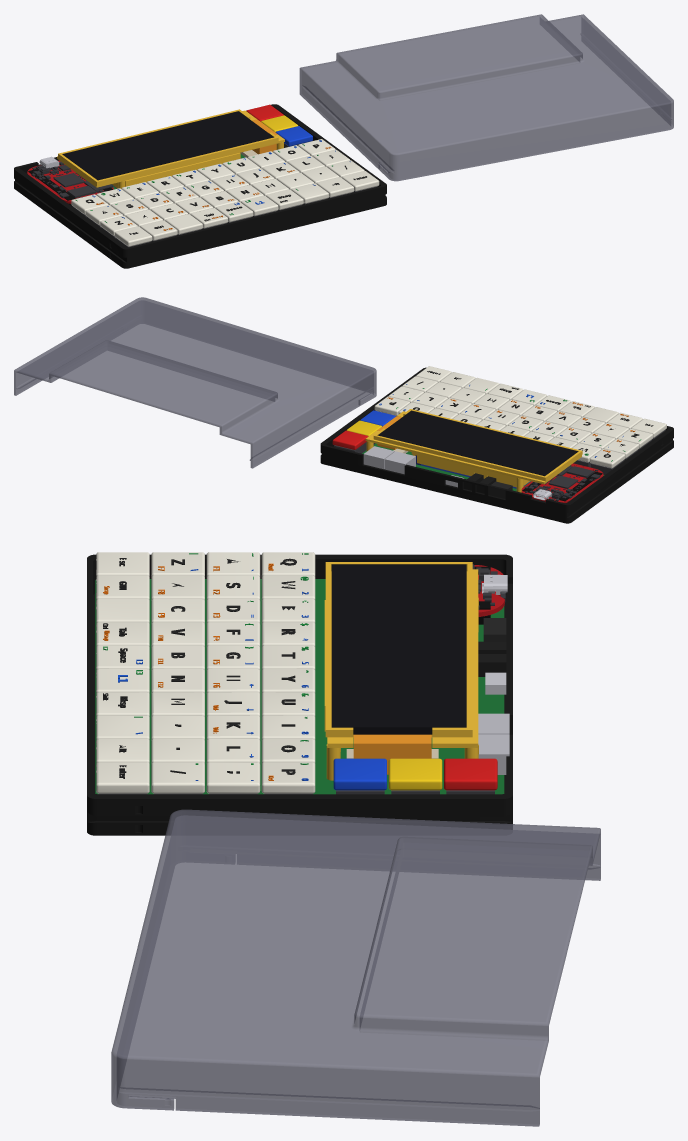
Rendered from beside_midnight.glb.
3 views of the same model, one above another, from view 1: azimuth 30°, elevation 25°; view 2: azimuth 150°, elevation 25°; view 3: azimuth 270°, elevation 25° (orthographic). The views are drawn at different scales.
Visible parts, largest first — view 1: Lid, Internals, Tray; view 2: Lid, Internals, Tray; view 3: Lid, Internals, Tray.
Part boxes in pixels (x1,y1,x2,y2): Lid: [299, 14, 673, 181]; Internals: [27, 104, 379, 247]; Tray: [14, 104, 386, 268]; Lid: [14, 297, 376, 468]; Internals: [332, 366, 666, 502]; Tray: [320, 367, 673, 523]; Lid: [111, 809, 600, 1126]; Internals: [95, 552, 509, 794]; Tray: [87, 554, 512, 835].
Size of the model in its own units: 0.3903 by 0.0227 by 0.1583.
